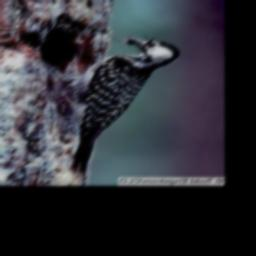Woodpecker: (57, 34, 183, 173)
